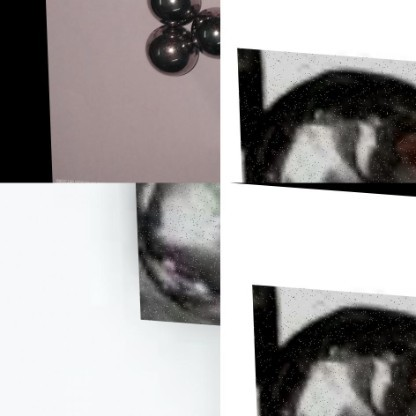ironball: (235, 47, 415, 182), (250, 283, 415, 415), (133, 182, 220, 328), (142, 23, 197, 73), (189, 6, 219, 61), (146, 0, 203, 22)
